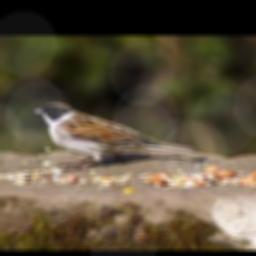Sparrow: (30, 101, 195, 169)
